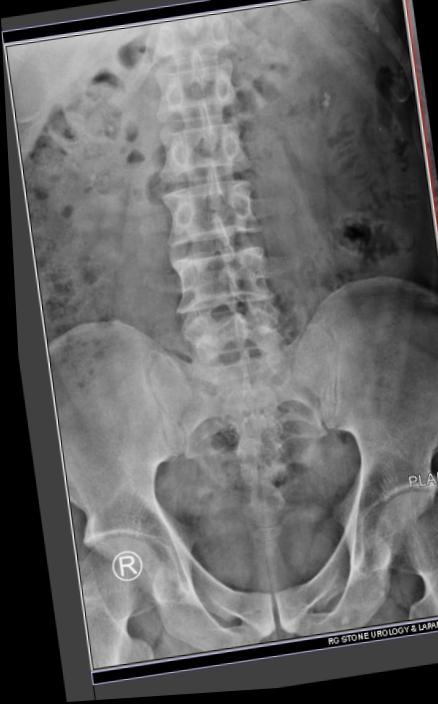vertebrae: (127, 33, 234, 127)
